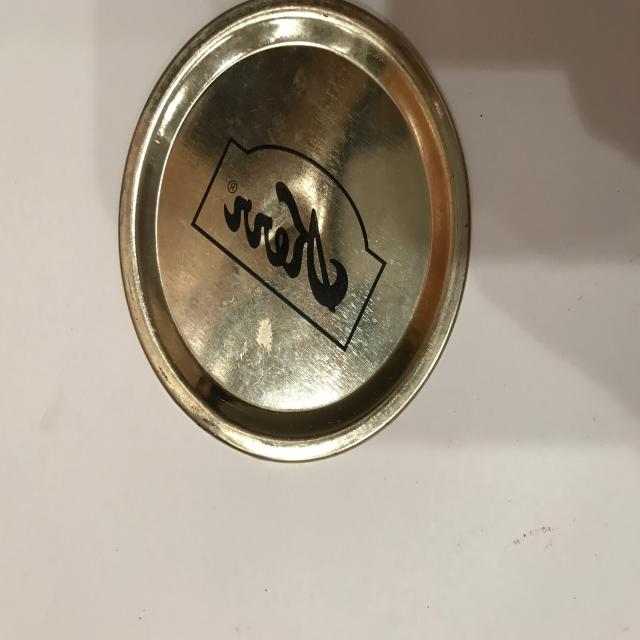metal: (118, 0, 472, 463)
